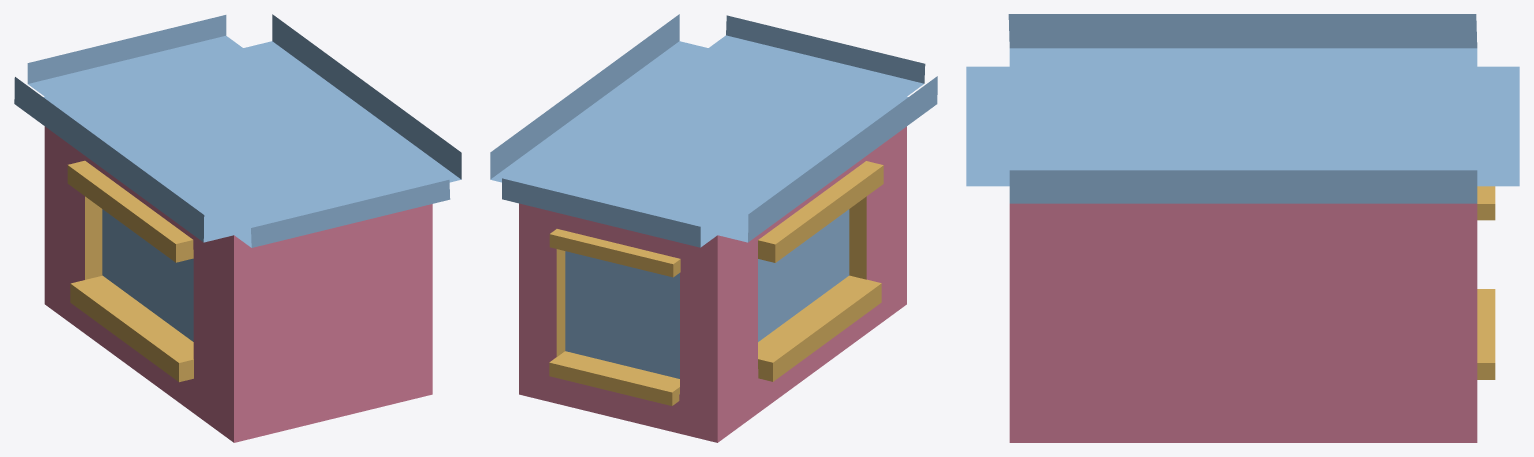
The model's file is House2.fbx.
The picture shows the model from 3 angles, left to right: view 1: azimuth 30°, elevation 25°; view 2: azimuth 150°, elevation 25°; view 3: azimuth 270°, elevation 25°; orthographic projection. The views are drawn at different scales.
Visible parts, largest first — view 1: Cube; view 2: Cube; view 3: Cube.
Part boxes in pixels (box(x1,y1,x2,y2)): Cube: box(14, 14, 461, 442); Cube: box(490, 14, 937, 442); Cube: box(966, 14, 1519, 442).
Bounding box in the file's own units: 799 × 698 × 1202.
